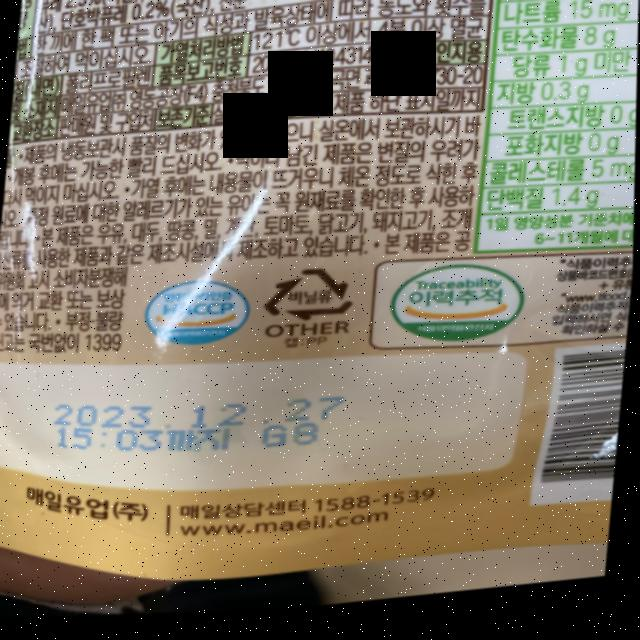Vinyl: (258, 265, 360, 335)
